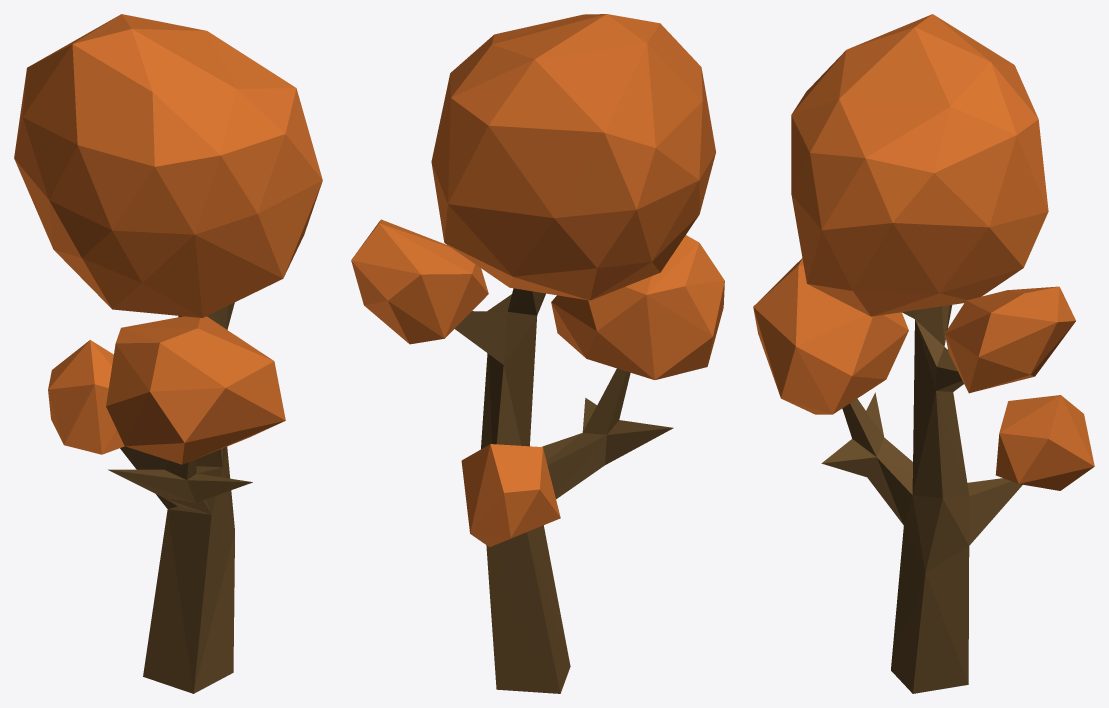
File: temp-decid.moderate.orange-op0.5.gltf
3 views of the same model, side by side, from view 1: azimuth 30°, elevation 25°; view 2: azimuth 150°, elevation 25°; view 3: azimuth 270°, elevation 25° (orthographic). The views are drawn at different scales.
Visible parts, largest first — view 1: Tree1_2; view 2: Tree1_2; view 3: Tree1_2.
Boxes of the visible parts, x1,y1,x2,y2 form: Tree1_2: [14, 14, 322, 693]; Tree1_2: [351, 14, 724, 693]; Tree1_2: [753, 14, 1094, 693].
Bounding box in the file's own units: 2.65 × 5.94 × 2.96.
1 material, 1 textured.
